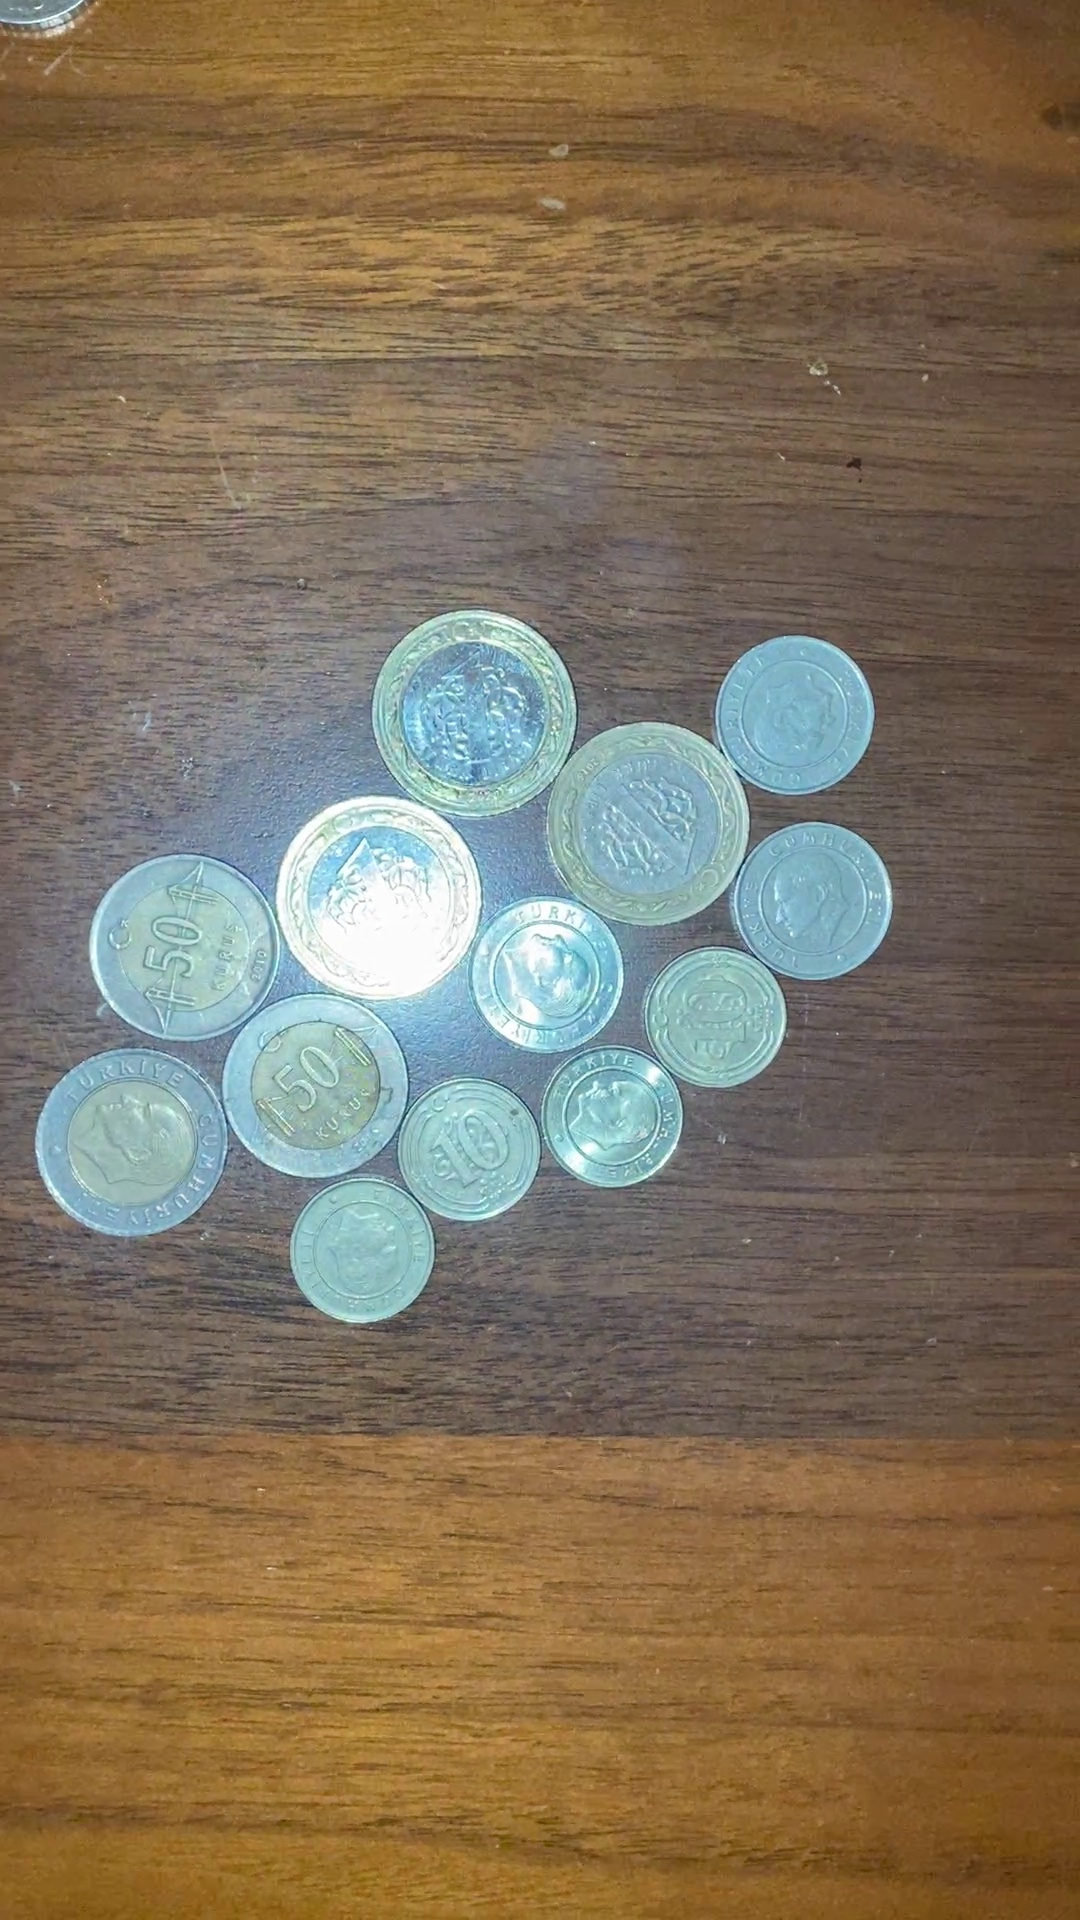1_tl: (276, 793, 495, 1004), (543, 724, 760, 932), (377, 604, 582, 820)
